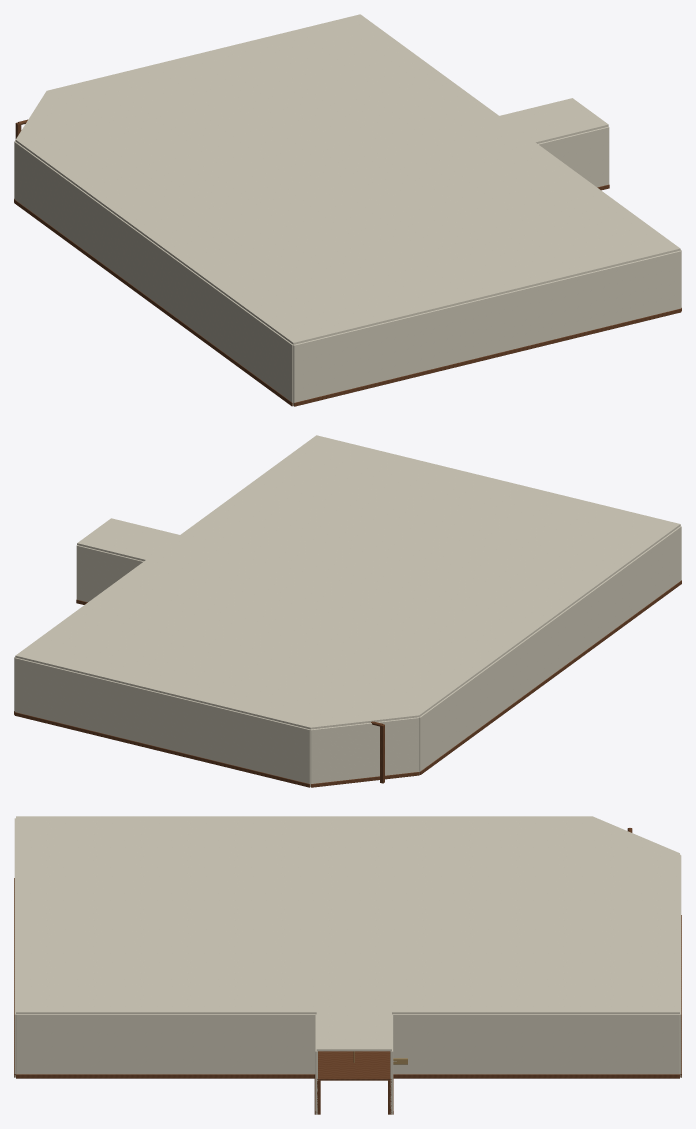
File: SOL_D06_directory_07_remaining_batch.glb
The picture shows the model from 3 angles, top to bottom: view 1: azimuth 30°, elevation 25°; view 2: azimuth 150°, elevation 25°; view 3: azimuth 270°, elevation 25°; orthographic projection. The views are drawn at different scales.
Parts seen in each view (by area): view 1: Orchard_opaque_lid__EXPORT, Enclosure_5__EXPORT, Enclosure_4__EXPORT, Enclosure_7__EXPORT, Wall_base_5__EXPORT, Wall_base_4__EXPORT; view 2: Orchard_opaque_lid__EXPORT, Enclosure_2__EXPORT, Enclosure_4__EXPORT, Enclosure_3__EXPORT, Enclosure_0__EXPORT, Wall_base_2__EXPORT, Wall_base_4__EXPORT; view 3: Orchard_opaque_lid__EXPORT, Enclosure_6__EXPORT, Enclosure_1__EXPORT, Entry_head__EXPORT, Wall_base_6__EXPORT, Wall_base_1__EXPORT, Enclosure_5__EXPORT.
Boxes of the visible parts, x1,y1,x2,y2 form: Orchard_opaque_lid__EXPORT: (15,14,680,344); Enclosure_5__EXPORT: (293,250,680,405); Enclosure_4__EXPORT: (14,141,293,405); Enclosure_7__EXPORT: (538,126,609,187); Wall_base_5__EXPORT: (293,308,681,406); Wall_base_4__EXPORT: (14,199,292,406); Orchard_opaque_lid__EXPORT: (15,435,680,729); Enclosure_2__EXPORT: (15,657,310,786); Enclosure_4__EXPORT: (419,526,681,774); Enclosure_3__EXPORT: (310,717,419,783); Enclosure_0__EXPORT: (76,545,143,602); Wall_base_2__EXPORT: (14,712,309,787); Wall_base_4__EXPORT: (420,580,681,774); Orchard_opaque_lid__EXPORT: (16,816,679,1051); Enclosure_6__EXPORT: (16,1014,315,1074); Enclosure_1__EXPORT: (393,1014,679,1074); Entry_head__EXPORT: (317,1051,391,1080); Wall_base_6__EXPORT: (16,1074,314,1078); Wall_base_1__EXPORT: (393,1074,679,1078); Enclosure_5__EXPORT: (14,818,15,1077).
Bounding box in the file's own units: 44.15 × 5.78 × 53.3.
Materials: 25 (24 with a texture image).
